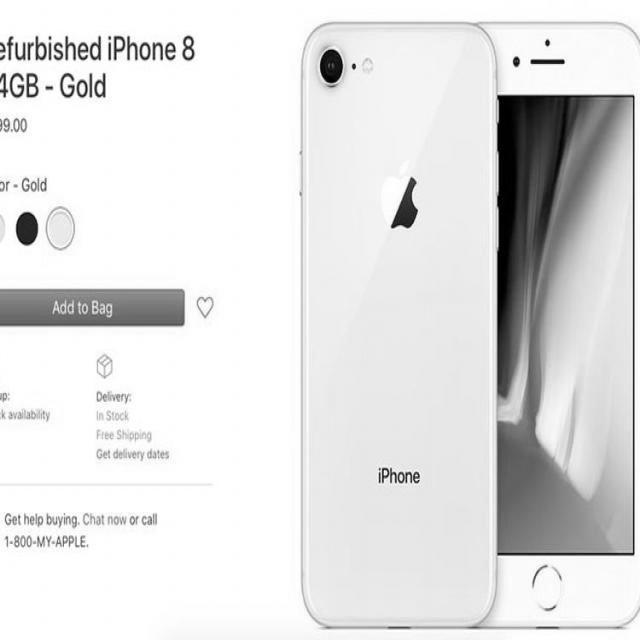fake: (295, 19, 504, 634)
